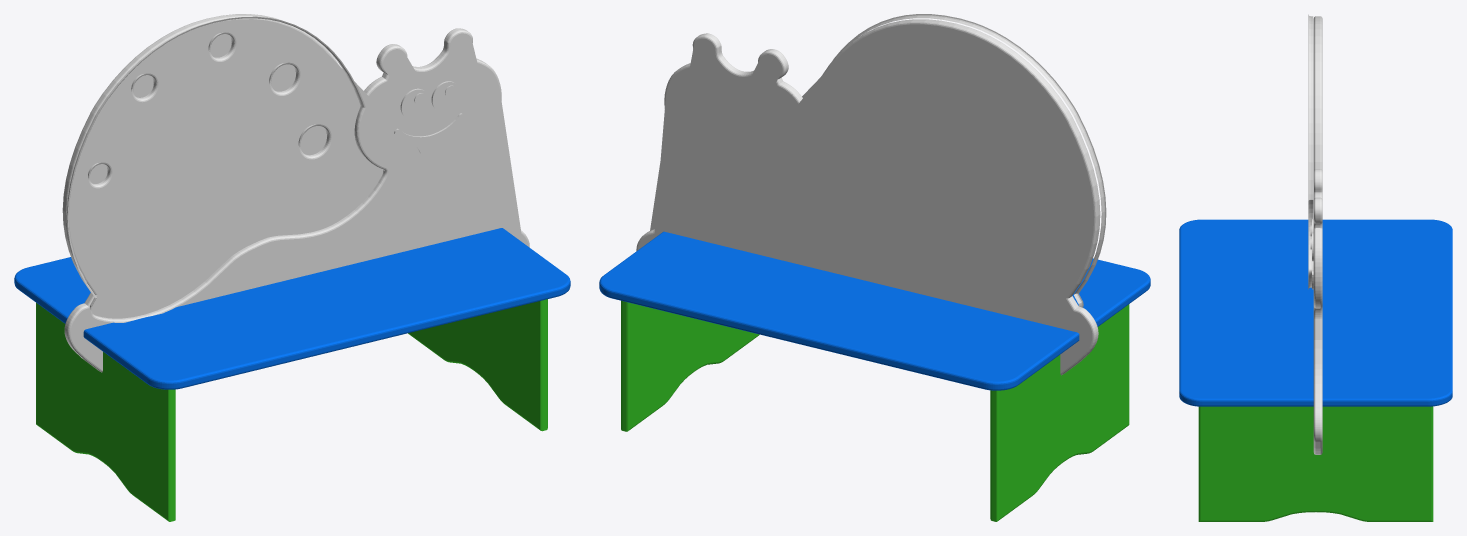
The picture shows the model from 3 angles, left to right: view 1: azimuth 30°, elevation 25°; view 2: azimuth 150°, elevation 25°; view 3: azimuth 270°, elevation 25°; orthographic projection. The views are drawn at different scales.
Visible parts, largest first — view 1: D_52; view 2: D_52; view 3: D_52.
Part boxes in pixels (<box>): D_52: <box>14,14,570,521</box>; D_52: <box>599,14,1150,521</box>; D_52: <box>1179,14,1452,521</box>.
Size of the model in its own units: 109 by 96.11 by 63.
